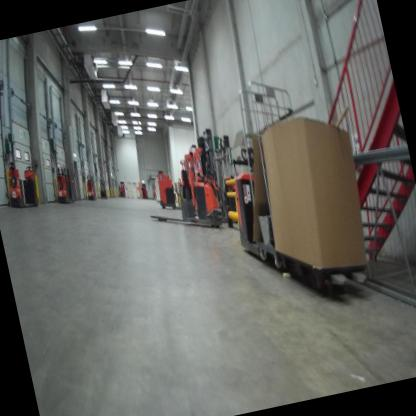forklift: (169, 133, 224, 230), (148, 152, 202, 230), (171, 150, 209, 223)
pallet_truck: (216, 129, 339, 314), (136, 129, 231, 238), (0, 152, 45, 214), (147, 164, 184, 217), (51, 162, 79, 206), (81, 169, 98, 201), (93, 175, 109, 201)
